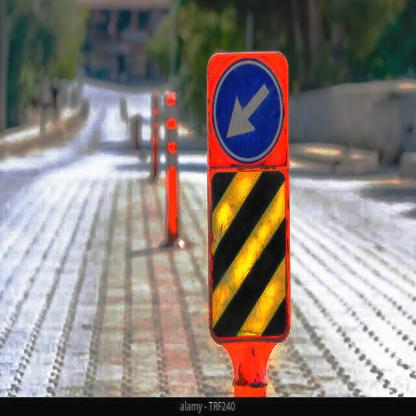Keep left: (212, 58, 287, 163)
